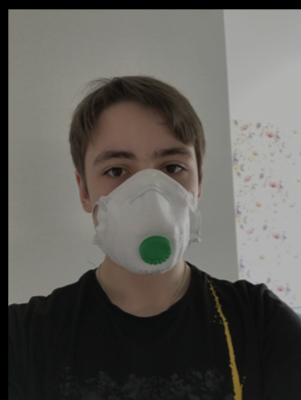with_mask: (86, 119, 200, 274)
